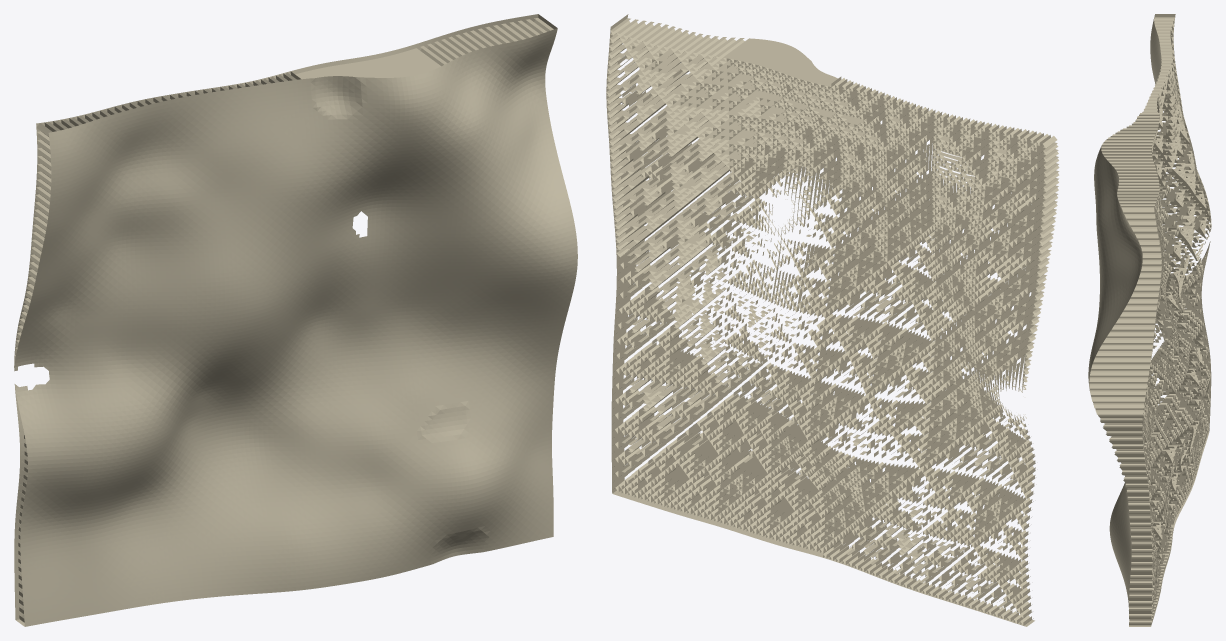
3 views of the same model, side by side, from view 1: azimuth 30°, elevation 25°; view 2: azimuth 150°, elevation 25°; view 3: azimuth 270°, elevation 25° (orthographic). The views are drawn at different scales.
Visible parts, largest first — view 1: world; view 2: world; view 3: world.
Part boxes in pixels (box(x1,y1,x2,y2)): world: box(14, 14, 577, 626); world: box(606, 14, 1059, 626); world: box(1088, 14, 1211, 626).
Size of the model in its own units: 12800 by 12800 by 3416.
